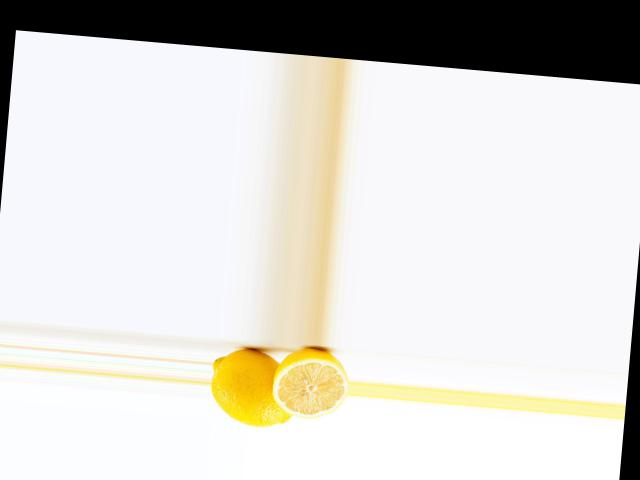lemon: (210, 341, 299, 431)
